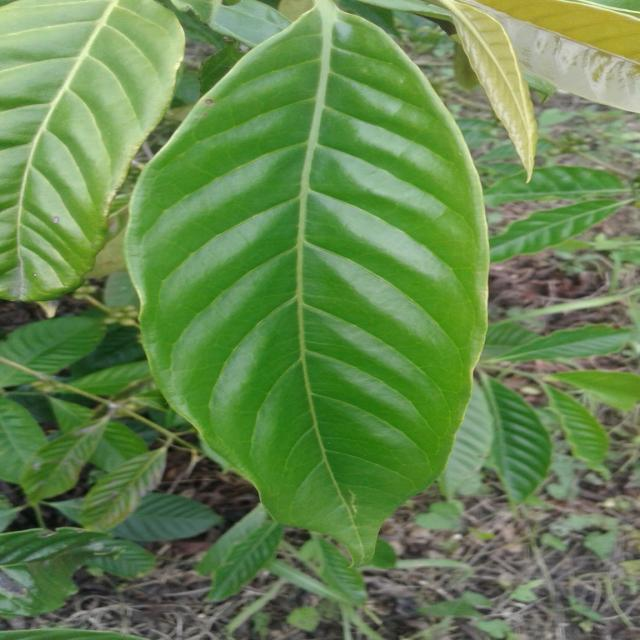Sanas: (121, 0, 491, 567)
